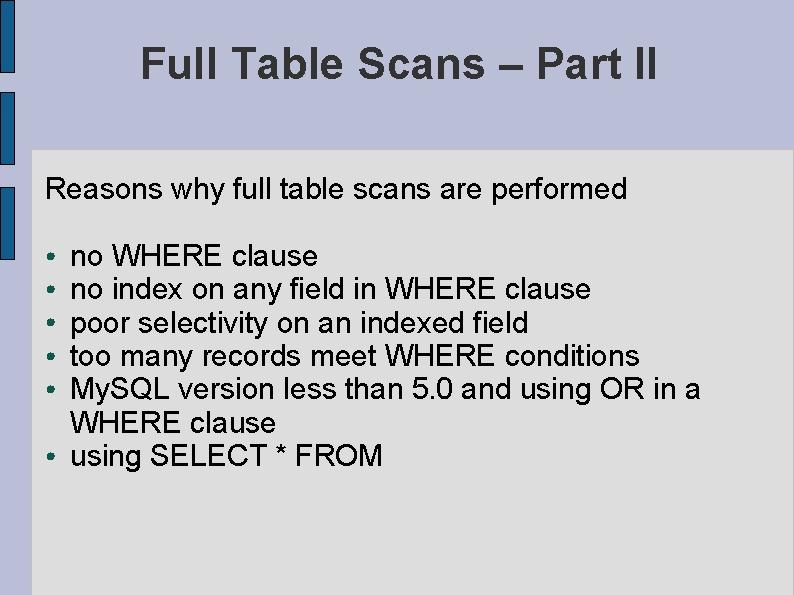paragraph: (41, 167, 736, 506)
title: (132, 29, 664, 104)
